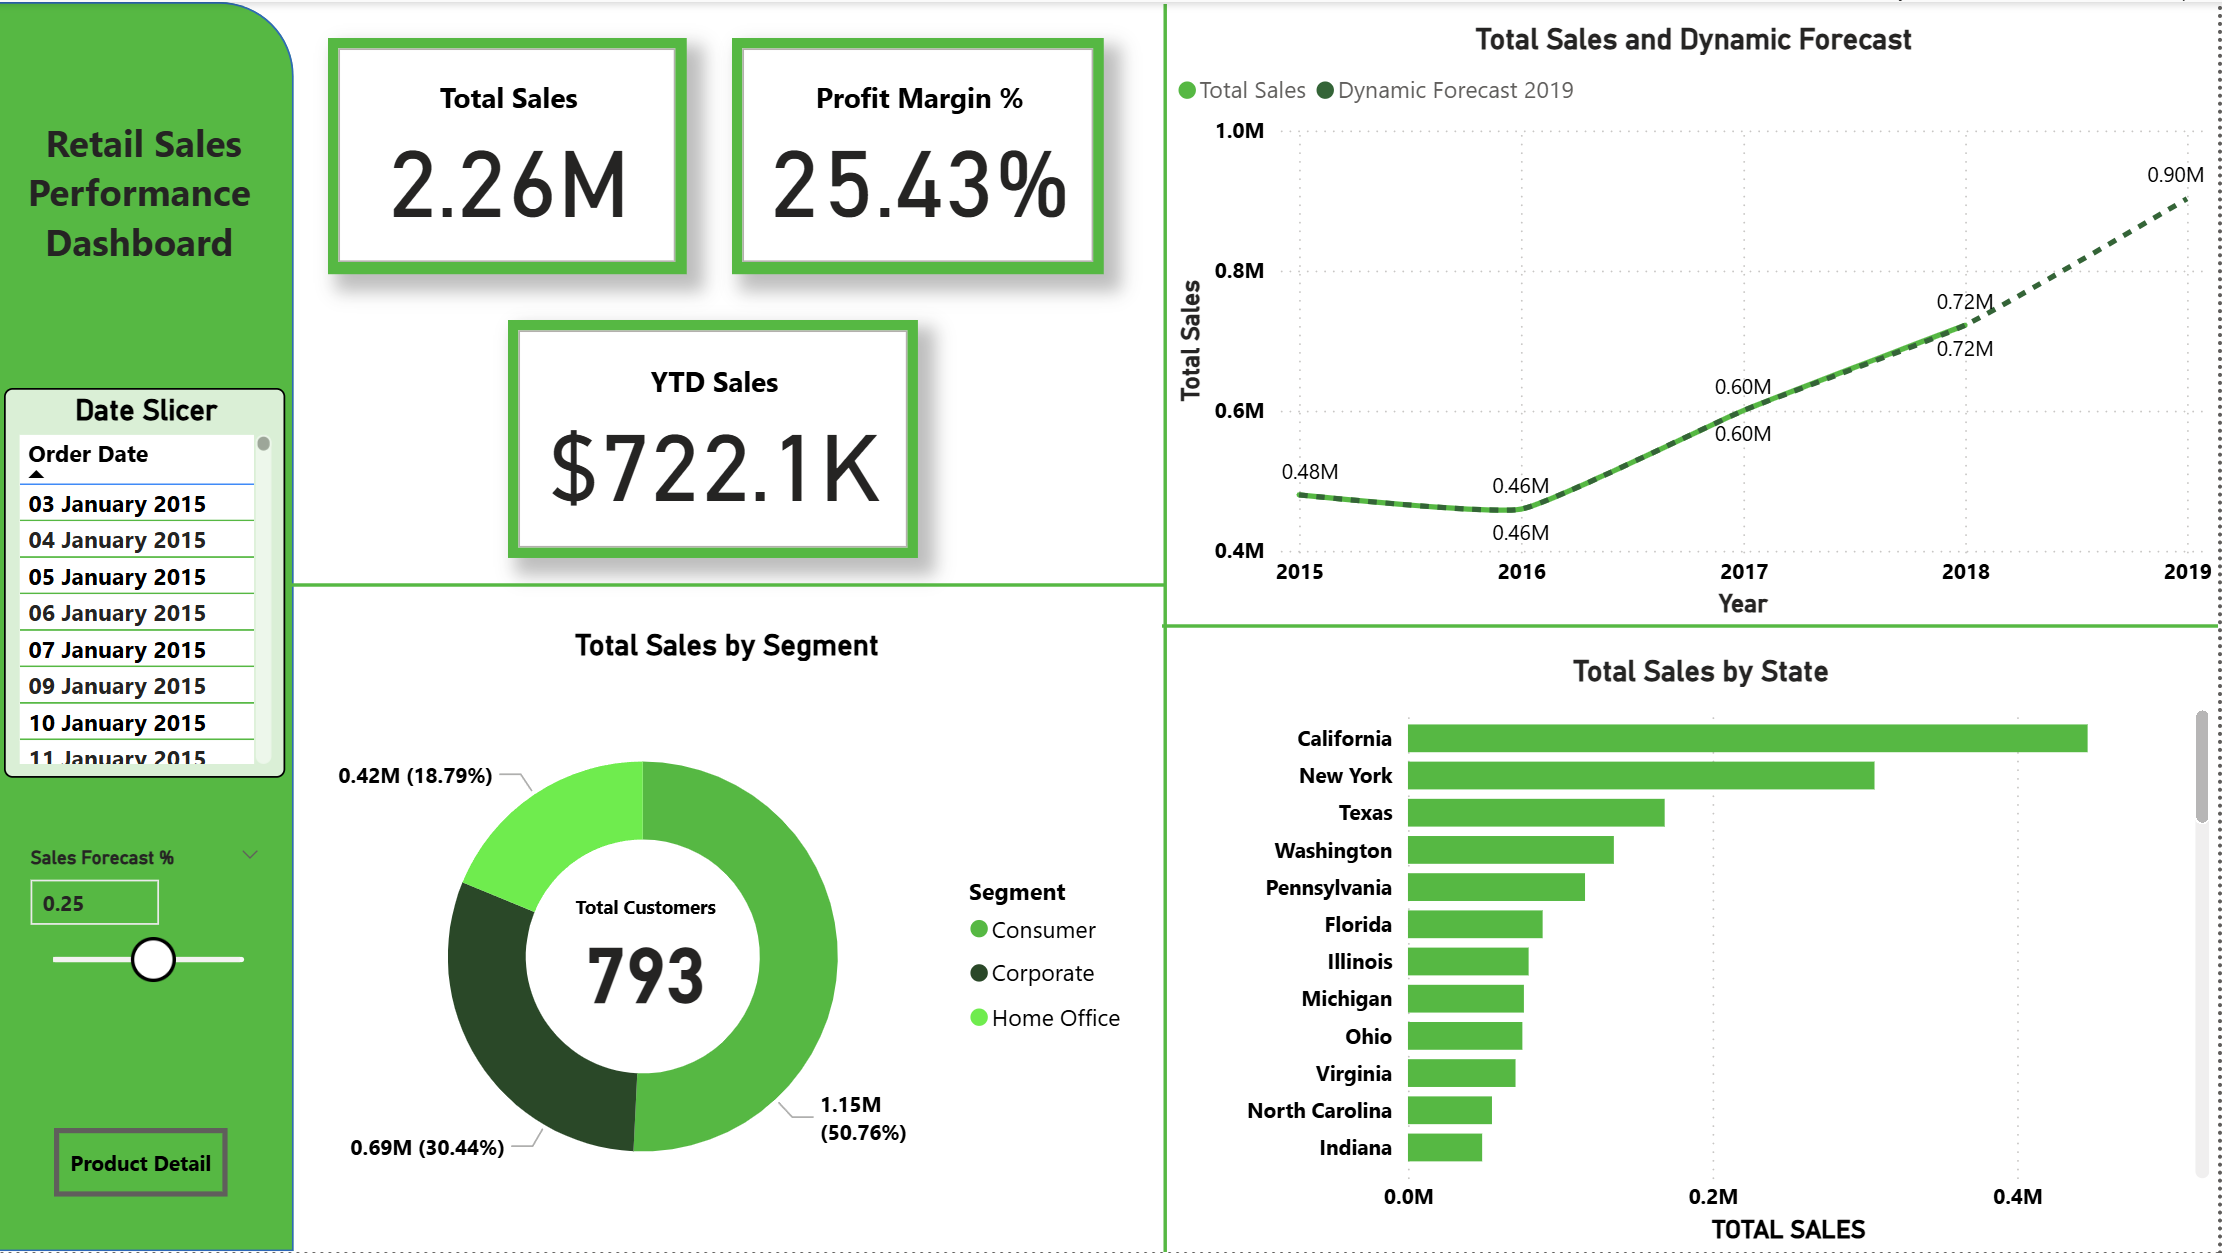

Layout of this report page (visuals, bound fields, positions):
{"tool":"powerbi","page":{"name":"Page 1","canvas":[1280,720],"ordinal":0},"visuals":[{"type":"shape","box":[0,0,171.5,719.6],"z":0},{"type":"cardVisual","fields":{"Data":["Key Measure.Total Sales"]},"box":[191,20.5,206.4,135.9],"z":1000},{"type":"cardVisual","fields":{"Data":["Key Measure.YTD Sales"]},"box":[294.9,197.4,235.9,137.2],"z":2000},{"type":"tableEx","title":"Date Slicer","fields":{"Values":["cleaned_sales_data.Order Date"]},"box":[5.1,221.8,161.9,224.4],"z":3000},{"type":"cardVisual","title":"sdfs","fields":{"Data":["Key Measure.Profit Margin %"]},"box":[424.4,20.5,214.1,135.9],"z":4000},{"type":"clusteredBarChart","fields":{"Category":["cleaned_sales_data.State"],"Y":["Key Measure.Total Sales"]},"box":[685.1,334.3,595.5,237.3],"z":5000},{"type":"clusteredBarChart","fields":{"Category":["cleaned_sales_data.Category"],"Y":["Key Measure.Total Sales"]},"box":[746.3,582.1,462.7,137.3],"z":6000},{"type":"lineChart","fields":{"Category":["cleaned_sales_data.Order Date.Variation.Date Hierarchy.Year","cleaned_sales_data.Order Date.Variation.Date Hierarchy.Quarter","cleaned_sales_data.Order Date.Variation.Date Hierarchy.Month","cleaned_sales_data.Order Date.Variation.Date Hierarchy.Day"],"Y":["Key Measure.Total Sales","Key Measure.Forecasted Sales"]},"box":[674.6,11.9,606,309],"z":7000},{"type":"shape","box":[166.7,320.5,507.7,51.3],"z":8000},{"type":"shape","box":[638.5,1.3,70.5,719.2],"z":9000},{"type":"shape","box":[673.1,273.1,607.5,98.5],"z":10000},{"type":"textbox","box":[3.8,61.2,158.1,110.9],"z":11000},{"type":"donutChart","fields":{"Category":["cleaned_sales_data.Segment"],"Y":["Key Measure.Total Sales"]},"box":[171.8,360.3,482.1,360.3],"z":12000},{"type":"cardVisual","fields":{"Data":["Key Measure.Total Customers"]},"box":[306.4,489.7,117.9,96.2],"z":13000},{"type":"slicer","fields":{"Values":["Sales Forecast %.Sales Forecast %"]},"box":[5.5,560.3,156.6,86.5],"z":14000}]}

Visuals, with their boxes in screenshot pixels (x1, y1, x2, y2), scaled from the page's 1280x720 canvas onto the 2222x1253 screenshot:
shape: {"x1": 0, "y1": 0, "x2": 298, "y2": 1252}
cardVisual - Key Measure.Total Sales: {"x1": 332, "y1": 36, "x2": 690, "y2": 272}
cardVisual - Key Measure.YTD Sales: {"x1": 512, "y1": 344, "x2": 921, "y2": 582}
"Date Slicer" tableEx: {"x1": 9, "y1": 386, "x2": 290, "y2": 777}
"sdfs" cardVisual: {"x1": 737, "y1": 36, "x2": 1108, "y2": 272}
clusteredBarChart - cleaned_sales_data.State x Key Measure.Total Sales: {"x1": 1189, "y1": 582, "x2": 2221, "y2": 995}
clusteredBarChart - cleaned_sales_data.Category x Key Measure.Total Sales: {"x1": 1296, "y1": 1013, "x2": 2099, "y2": 1252}
lineChart - cleaned_sales_data.Order Date.Variation.Date Hierarchy.Year x cleaned_sales_data.Order Date.Variation.Date Hierarchy.Quarter: {"x1": 1171, "y1": 21, "x2": 2221, "y2": 558}
shape: {"x1": 289, "y1": 558, "x2": 1171, "y2": 647}
shape: {"x1": 1108, "y1": 2, "x2": 1231, "y2": 1252}
shape: {"x1": 1168, "y1": 475, "x2": 2221, "y2": 647}
textbox: {"x1": 7, "y1": 107, "x2": 281, "y2": 300}
donutChart - cleaned_sales_data.Segment x Key Measure.Total Sales: {"x1": 298, "y1": 627, "x2": 1135, "y2": 1252}
cardVisual - Key Measure.Total Customers: {"x1": 532, "y1": 852, "x2": 737, "y2": 1020}
slicer - Sales Forecast %.Sales Forecast %: {"x1": 10, "y1": 975, "x2": 281, "y2": 1126}
